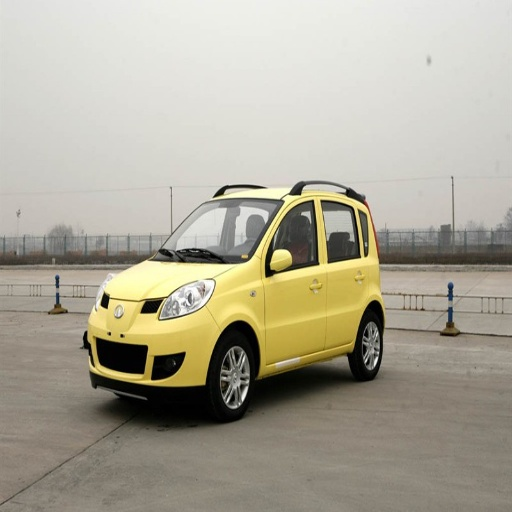front_bumper: (87, 291, 221, 394)
front_glass: (152, 200, 279, 263)
front_left_door: (263, 195, 327, 361)
